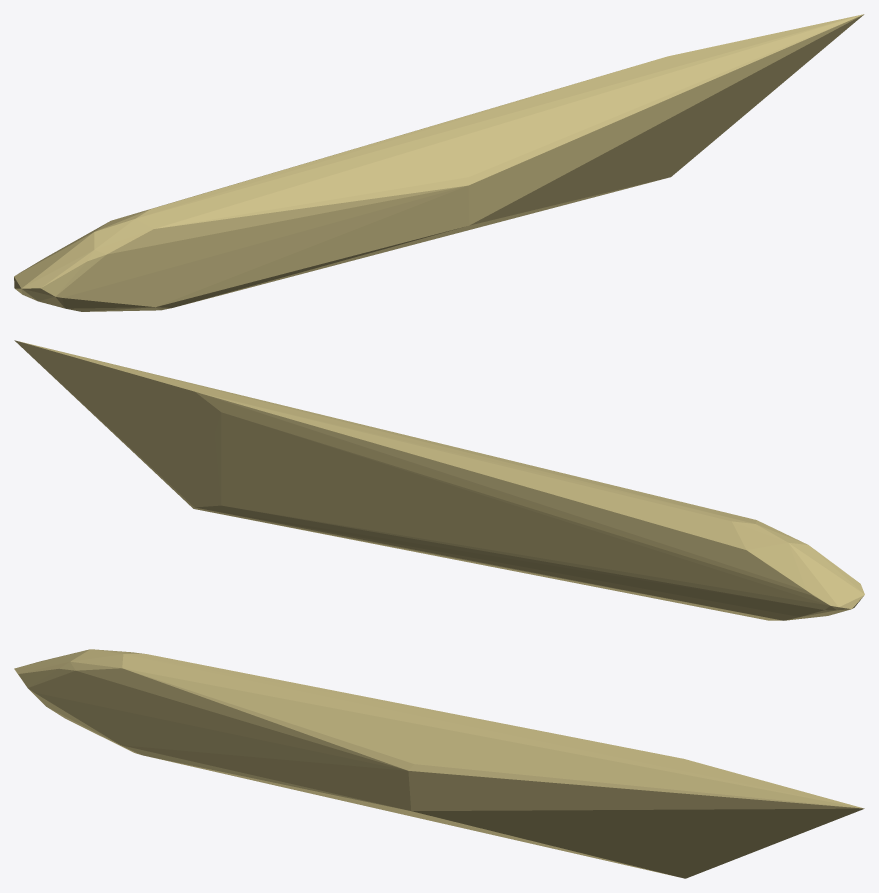
The model's file is paint_supplies_palletknife_a05.glb.
3 views of the same model, one above another, from view 1: azimuth 30°, elevation 25°; view 2: azimuth 150°, elevation 25°; view 3: azimuth 330°, elevation 25° (orthographic).
Visible parts, largest first — view 1: geometry_0; view 2: geometry_0; view 3: geometry_0.
Boxes of the visible parts, box(x1,y1,x2,y2) form: geometry_0: box(14, 14, 864, 311); geometry_0: box(14, 340, 864, 620); geometry_0: box(14, 649, 864, 878).
Bounding box in the file's own units: 0.4752 × 0.0645 × 0.0402.
